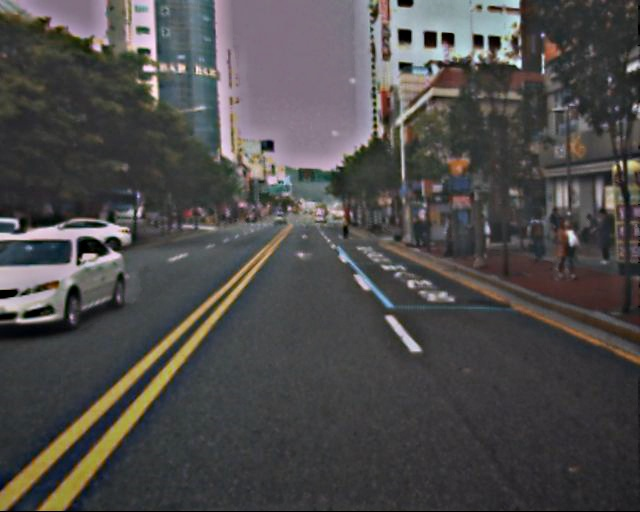person: (553, 220, 577, 278), (592, 210, 615, 267), (526, 214, 547, 264), (439, 216, 456, 257), (578, 211, 599, 243), (412, 215, 426, 248), (340, 217, 349, 240)
